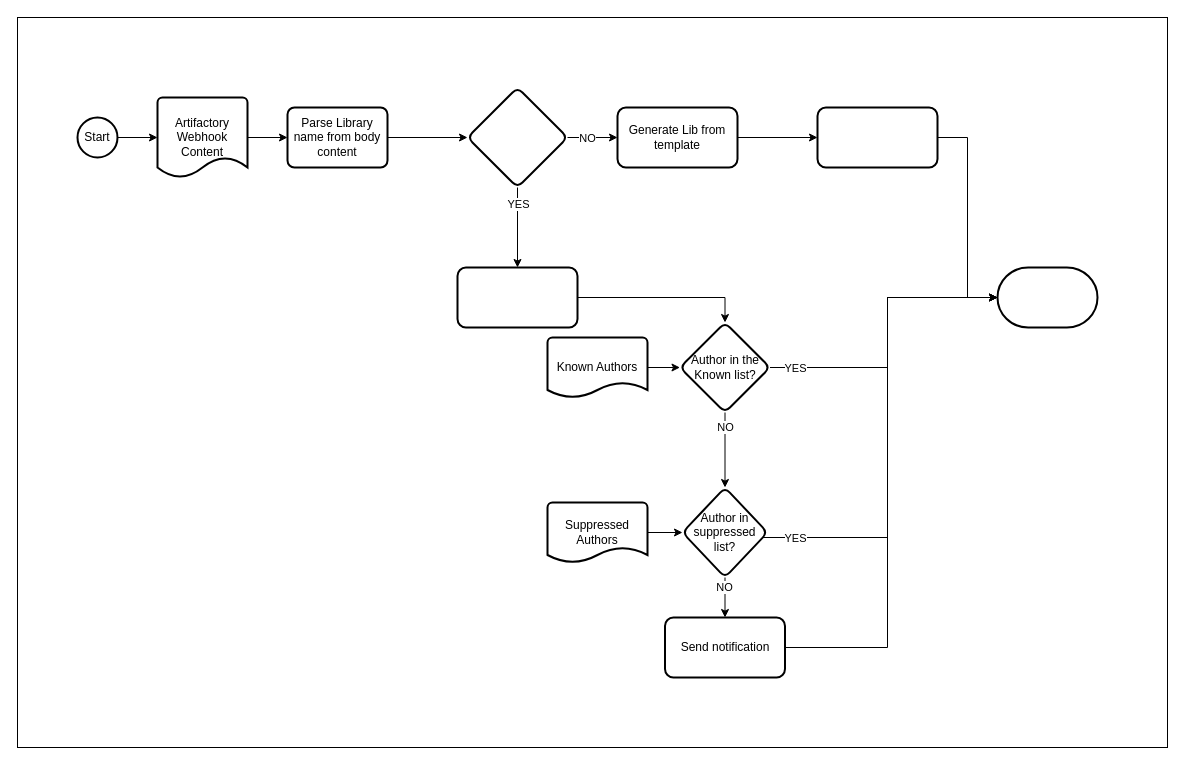
Image size: 1185x765. Some labels were removed from this diagram. Here are the shapes that lost their labels. From the top down, the centre of each, then its label:
At (517,137): "Library Exists in PyPI?".
At (877,137): "Publish to PyPI".
At (517,297): "Notification Service".
At (1047,297): "End".
